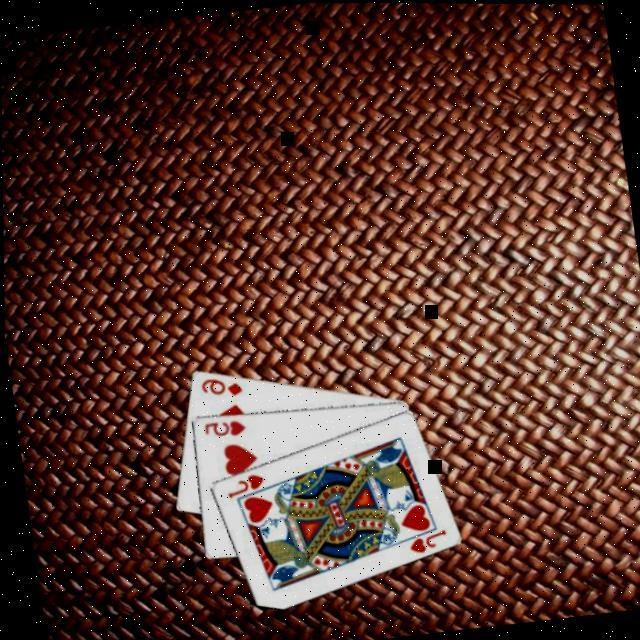5H: (201, 416, 249, 442)
6D: (198, 372, 245, 402)
JH: (222, 469, 268, 502), (404, 526, 450, 556)
